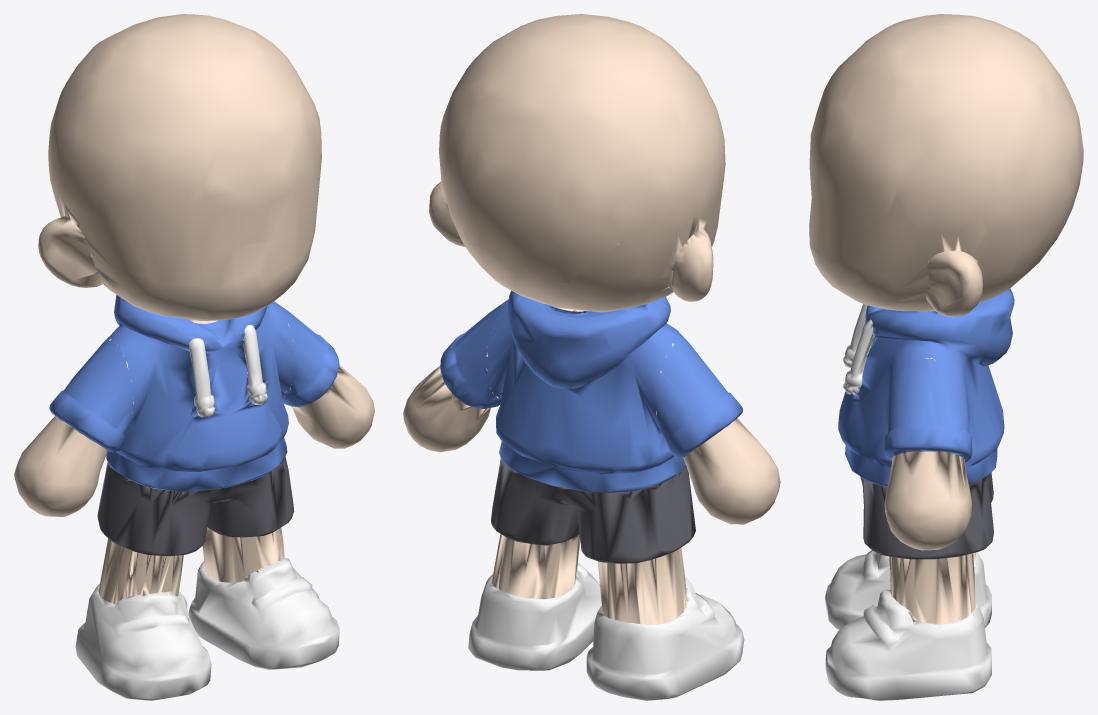
The model's file is body_a_lo.glb.
3 views of the same model, side by side, from view 1: azimuth 30°, elevation 25°; view 2: azimuth 150°, elevation 25°; view 3: azimuth 270°, elevation 25° (orthographic). The views are drawn at different scales.
Visible parts, largest first — view 1: head, top, shoe_l, bottom, shoe_r, hand_r, sleeve_r, hand_l, leg_r, leg_l, sleeve_l, ear_r (+2 smaller); view 2: head, top, bottom, shoe_r, shoe_l, hand_r, sleeve_r, leg_r, leg_l, hand_l, sleeve_l, ear_r (+1 smaller); view 3: head, top, shoe_l, hand_l, sleeve_l, leg_l, bottom, shoe_r, ear_l, trim_top_1, trim_top_0.
Part boxes in pixels (x1,y1,x2,y2): head: [48, 14, 321, 323]; top: [104, 295, 295, 491]; shoe_l: [188, 558, 339, 669]; bottom: [97, 457, 294, 556]; shoe_r: [75, 584, 211, 700]; hand_r: [14, 416, 107, 516]; sleeve_r: [49, 339, 133, 452]; hand_l: [292, 365, 374, 448]; leg_r: [98, 538, 183, 604]; leg_l: [202, 527, 284, 582]; sleeve_l: [277, 303, 339, 407]; ear_r: [38, 216, 103, 287]; head: [439, 14, 725, 312]; top: [486, 290, 686, 492]; bottom: [491, 458, 695, 563]; shoe_r: [586, 577, 744, 700]; shoe_l: [468, 562, 607, 670]; hand_r: [683, 418, 780, 524]; sleeve_r: [655, 338, 742, 457]; leg_r: [598, 548, 687, 624]; leg_l: [491, 534, 580, 599]; hand_l: [403, 366, 490, 452]; sleeve_l: [440, 301, 505, 409]; ear_r: [668, 228, 713, 301]; head: [809, 14, 1083, 311]; top: [838, 285, 1014, 486]; shoe_l: [825, 590, 991, 700]; hand_l: [884, 451, 971, 550]; sleeve_l: [884, 358, 972, 462]; leg_l: [889, 553, 975, 624]; bottom: [860, 473, 993, 559]; shoe_r: [825, 550, 991, 629]; ear_l: [926, 250, 982, 317]; trim_top_1: [843, 319, 874, 394]; trim_top_0: [843, 304, 866, 367].
Size of the model in its own units: 0.578 by 0.9777 by 0.3936.
